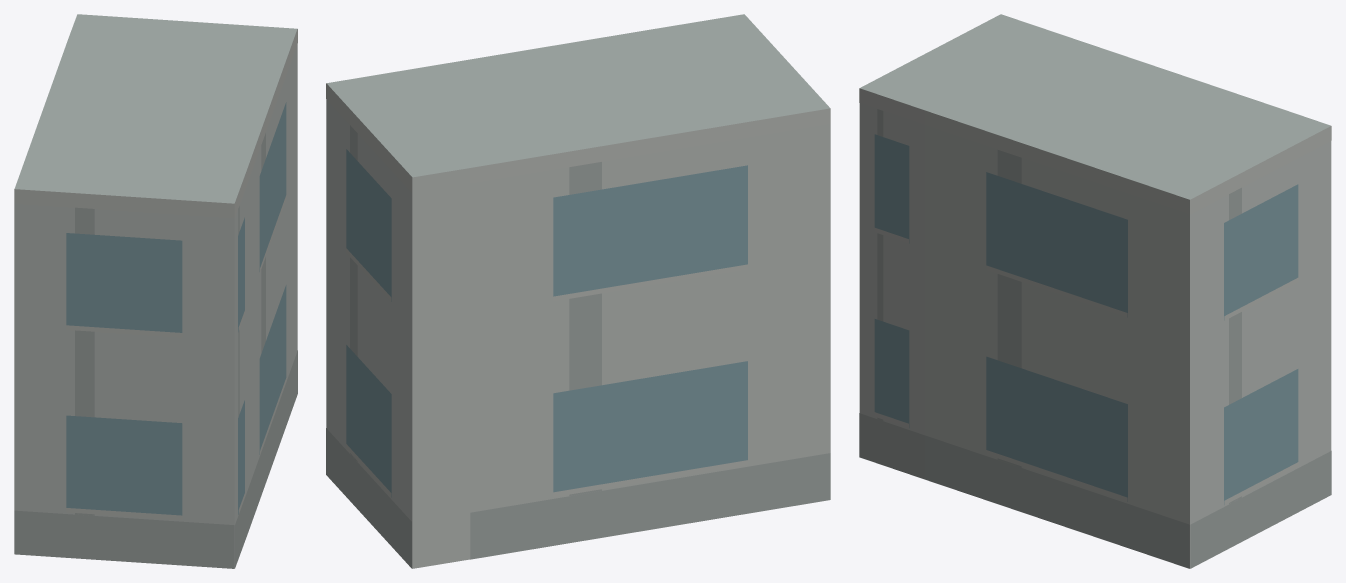
The model's file is survey-upis-32646962.glb.
3 renders of one model, left to right at view 1: azimuth 30°, elevation 25°; view 2: azimuth 150°, elevation 25°; view 3: azimuth 270°, elevation 25°, orthographic. The views are drawn at different scales.
Visible parts, largest first — view 1: survey-upis-32646962.tmp; view 2: survey-upis-32646962.tmp; view 3: survey-upis-32646962.tmp.
Part boxes in pixels (left/top/right/bottom): survey-upis-32646962.tmp: left=14, top=14, right=297, bottom=568; survey-upis-32646962.tmp: left=326, top=14, right=830, bottom=568; survey-upis-32646962.tmp: left=859, top=14, right=1331, bottom=568.
Bounding box in the file's own units: 6.59 × 6.1 × 7.08.
